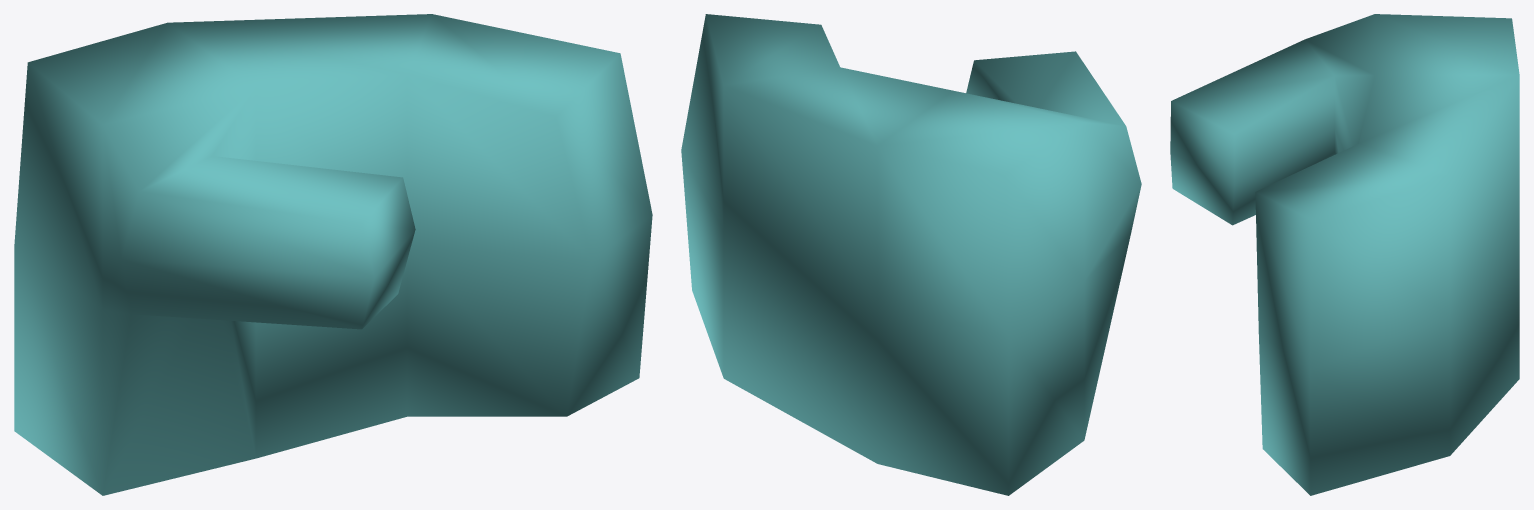
The model's file is hand.fbx.
The picture shows the model from 3 angles, left to right: view 1: azimuth 30°, elevation 25°; view 2: azimuth 150°, elevation 25°; view 3: azimuth 270°, elevation 25°; orthographic projection. The views are drawn at different scales.
Parts seen in each view (by area): view 1: sandManModel.001; view 2: sandManModel.001; view 3: sandManModel.001.
Boxes of the visible parts, x1,y1,x2,y2 form: sandManModel.001: [14, 14, 652, 495]; sandManModel.001: [681, 14, 1141, 495]; sandManModel.001: [1170, 14, 1519, 495].
Size of the model in its own units: 49.15 by 32.63 by 33.99.
